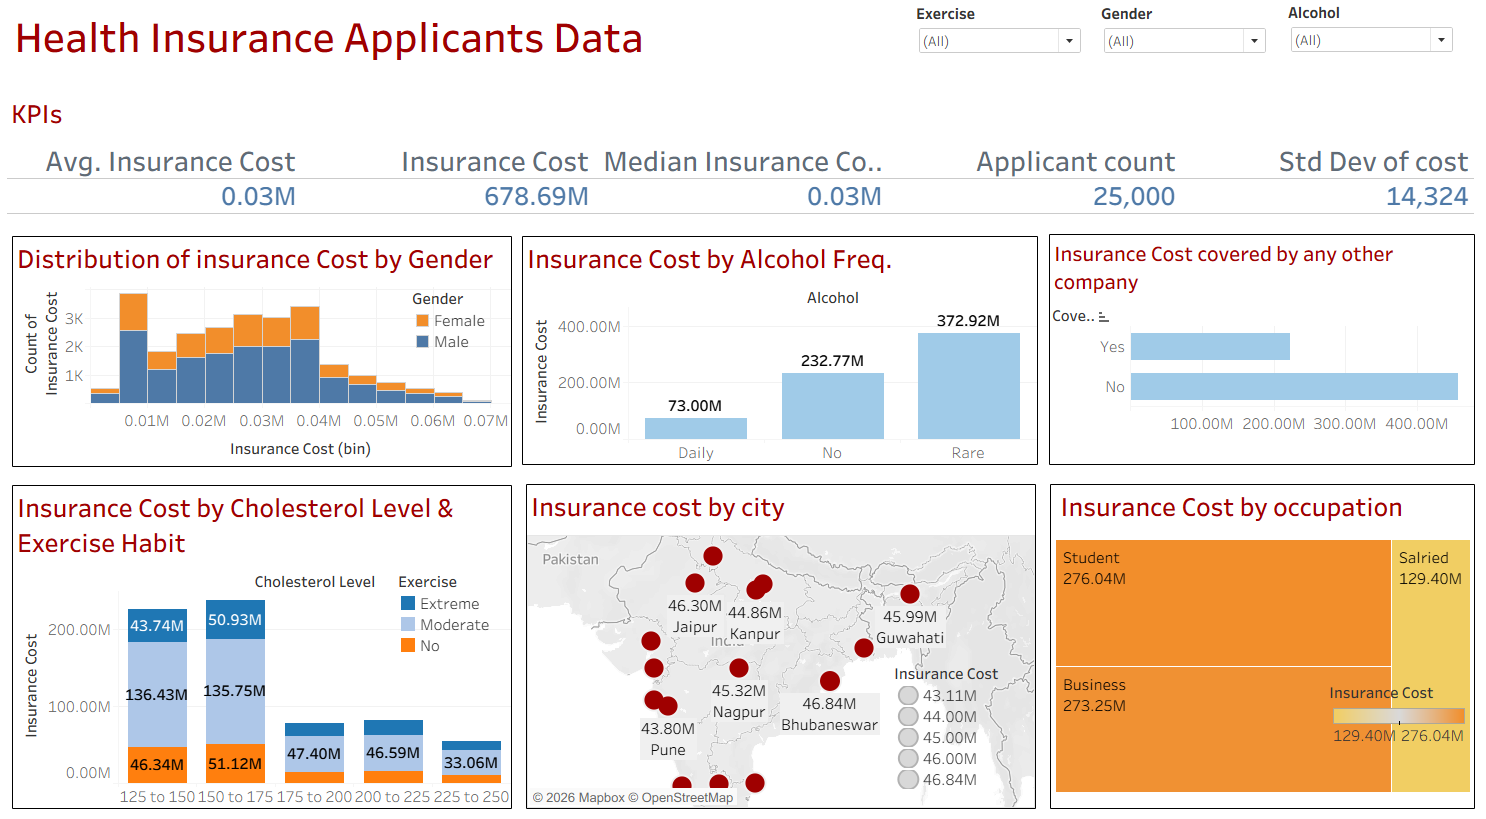

What the dashboard file says about the page in this screenshot:
{"tool":"tableau","page":{"name":"Dashboard 1","canvas":[1000,1000],"units":"permille","ordinal":0},"visuals":[{"type":"text","box":[10.3,12.8,511.8,94.1]},{"type":"filter","title":"KPIs","param":"[federated.0pso7i70ap30ql13yjly110e7gf0].[none:Alcohol:nk]","box":[780.9,20.9,101.4,70.9]},{"type":"filter","title":"KPIs","param":"[federated.0pso7i70ap30ql13yjly110e7gf0].[none:exercise:nk]","box":[556.4,22.1,101.4,70.9]},{"type":"filter","title":"KPIs","param":"[federated.0pso7i70ap30ql13yjly110e7gf0].[none:Gender:nk]","box":[668.1,22.1,101.4,70.9]},{"type":"worksheet","title":"KPIs","mark":"Automatic","box":[7.9,125.4,885.3,163.8]},{"type":"worksheet","title":"Insurance cost covered by any other company","mark":"Automatic","rows":["Calculation_1022554749558785"],"cols":["insurance_cost"],"box":[636.7,290.4,257.1,268.3]},{"type":"worksheet","title":"Distr of insur","mark":"Automatic","rows":["insurance_cost"],"cols":["Insurance Cost (bin)"],"box":[10.9,292.7,301.8,268.3]},{"type":"worksheet","title":"Insurance cost by alchocol frequency","mark":"Automatic","rows":["insurance_cost"],"cols":["Alcohol"],"box":[318.7,292.7,311.4,266]},{"type":"legend","title":"Distr of insur","param":"[federated.0pso7i70ap30ql13yjly110e7gf0].[none:Gender:nk]","box":[252.3,353.1,84.5,95.2]},{"type":"worksheet","title":"Insurance cost by city","mark":"Automatic","box":[321.1,580.7,307.8,377.5]},{"type":"worksheet","title":" Insurance Cost by occupation","mark":"Automatic","box":[637.3,580.7,256.5,377.5]},{"type":"worksheet","title":"Insurance cost by cholesterol level and excecise level","mark":"Automatic","rows":["insurance_cost"],"cols":["cholesterol_level"],"box":[10.9,581.9,301.8,376.3]},{"type":"legend","title":"Insurance cost by cholesterol level and excecise level","param":"[federated.0pso7i70ap30ql13yjly110e7gf0].[none:exercise:nk]","box":[243.8,681.8,59.1,135.9]},{"type":"legend","title":"Insurance cost by city","param":"[federated.0pso7i70ap30ql13yjly110e7gf0].[sum:insurance_cost:qk]","box":[543.1,788.6,84.5,159.1]},{"type":"legend","title":" Insurance Cost by occupation","param":"[federated.0pso7i70ap30ql13yjly110e7gf0].[sum:insurance_cost:qk]","box":[805.7,810.7,84.5,119.6]}]}

Visuals, with their boxes on the dashboard's canvas, which has no fixed pixel size, in thousandths of its width and height (x1, y1, x2, y2). These are canvas units, not pixel positions in the 1486x819 screenshot, which may show the page scaled, cropped or inside an application window:
text: left=10, top=13, right=522, bottom=107
"KPIs" filter: left=781, top=21, right=882, bottom=92
"KPIs" filter: left=556, top=22, right=658, bottom=93
"KPIs" filter: left=668, top=22, right=770, bottom=93
"KPIs" worksheet: left=8, top=125, right=893, bottom=289
"Insurance cost covered by any other company" worksheet: left=637, top=290, right=894, bottom=559
"Distr of insur" worksheet: left=11, top=293, right=313, bottom=561
"Insurance cost by alchocol frequency" worksheet: left=319, top=293, right=630, bottom=559
"Distr of insur" legend: left=252, top=353, right=337, bottom=448
"Insurance cost by city" worksheet: left=321, top=581, right=629, bottom=958
" Insurance Cost by occupation" worksheet: left=637, top=581, right=894, bottom=958
"Insurance cost by cholesterol level and excecise level" worksheet: left=11, top=582, right=313, bottom=958
"Insurance cost by cholesterol level and excecise level" legend: left=244, top=682, right=303, bottom=818
"Insurance cost by city" legend: left=543, top=789, right=628, bottom=948
" Insurance Cost by occupation" legend: left=806, top=811, right=890, bottom=930
